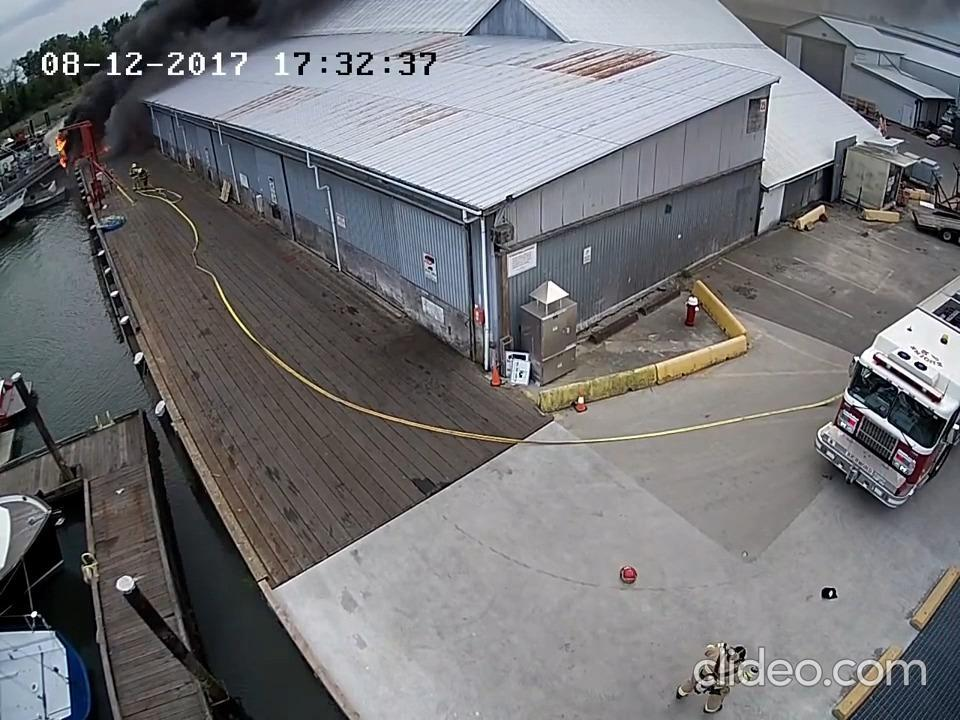fire: (50, 131, 76, 174)
